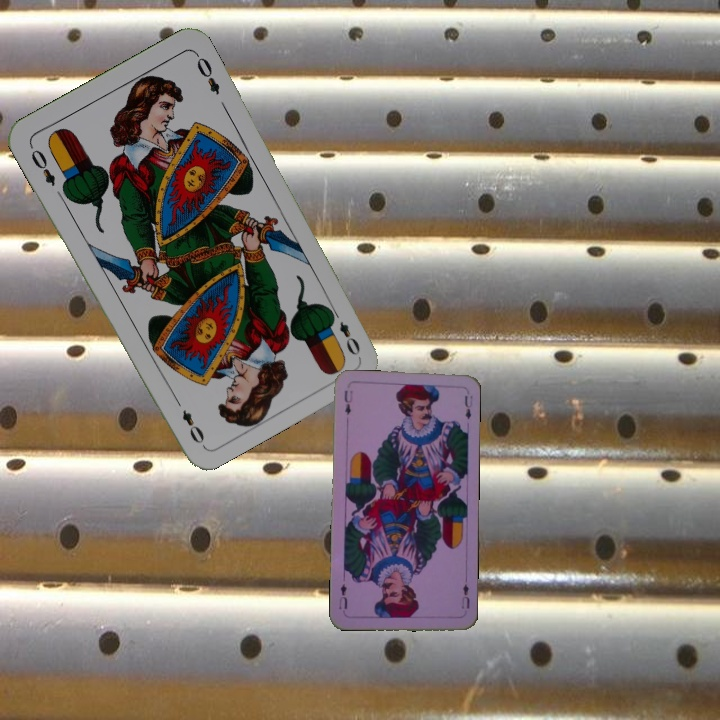EO: (326, 304, 363, 358), (27, 145, 58, 189)
EU: (457, 580, 472, 611), (340, 386, 355, 417)
